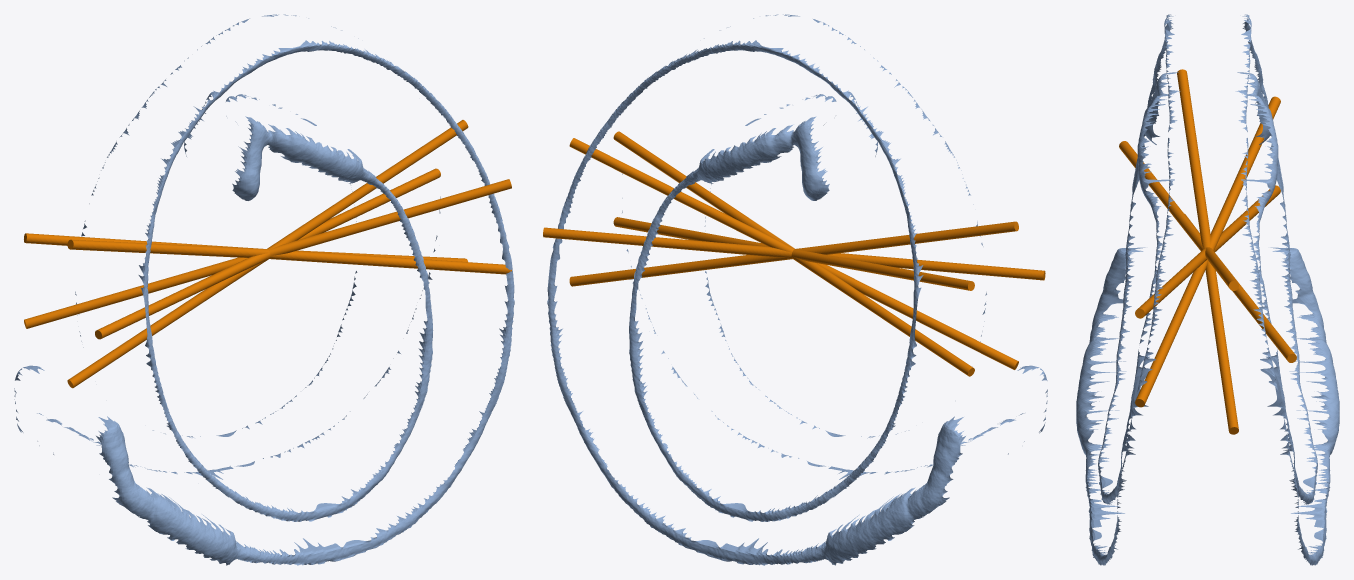
Rendered from 50073731_5995-37-501-9361_DigitalTwin.glb.
3 views of the same model, side by side, from view 1: azimuth 30°, elevation 25°; view 2: azimuth 150°, elevation 25°; view 3: azimuth 270°, elevation 25° (orthographic). The views are drawn at different scales.
Visible parts, largest first — view 1: world; view 2: world; view 3: world.
Boxes of the visible parts, box(x1,y1,x2,y2) form: world: box(14, 14, 514, 565); world: box(543, 14, 1047, 565); world: box(1076, 14, 1339, 565).
Size of the model in its own units: 199 by 220 by 103.
